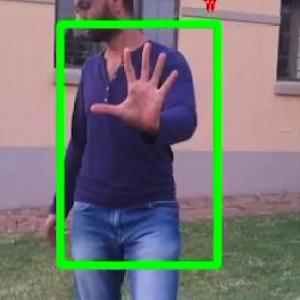follow_hand: (91, 34, 187, 135)
